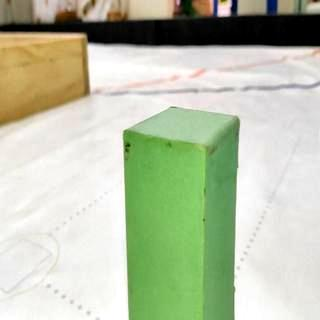greenbox: (121, 103, 243, 320)
